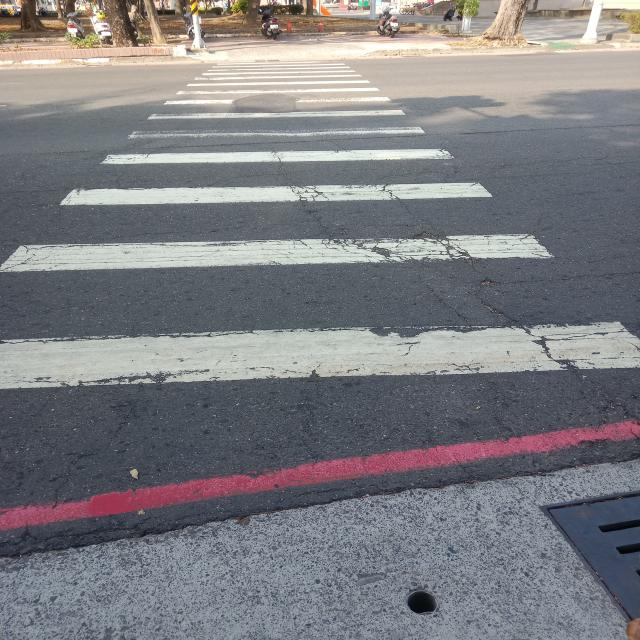zebra_crossing: (223, 33, 439, 94)
